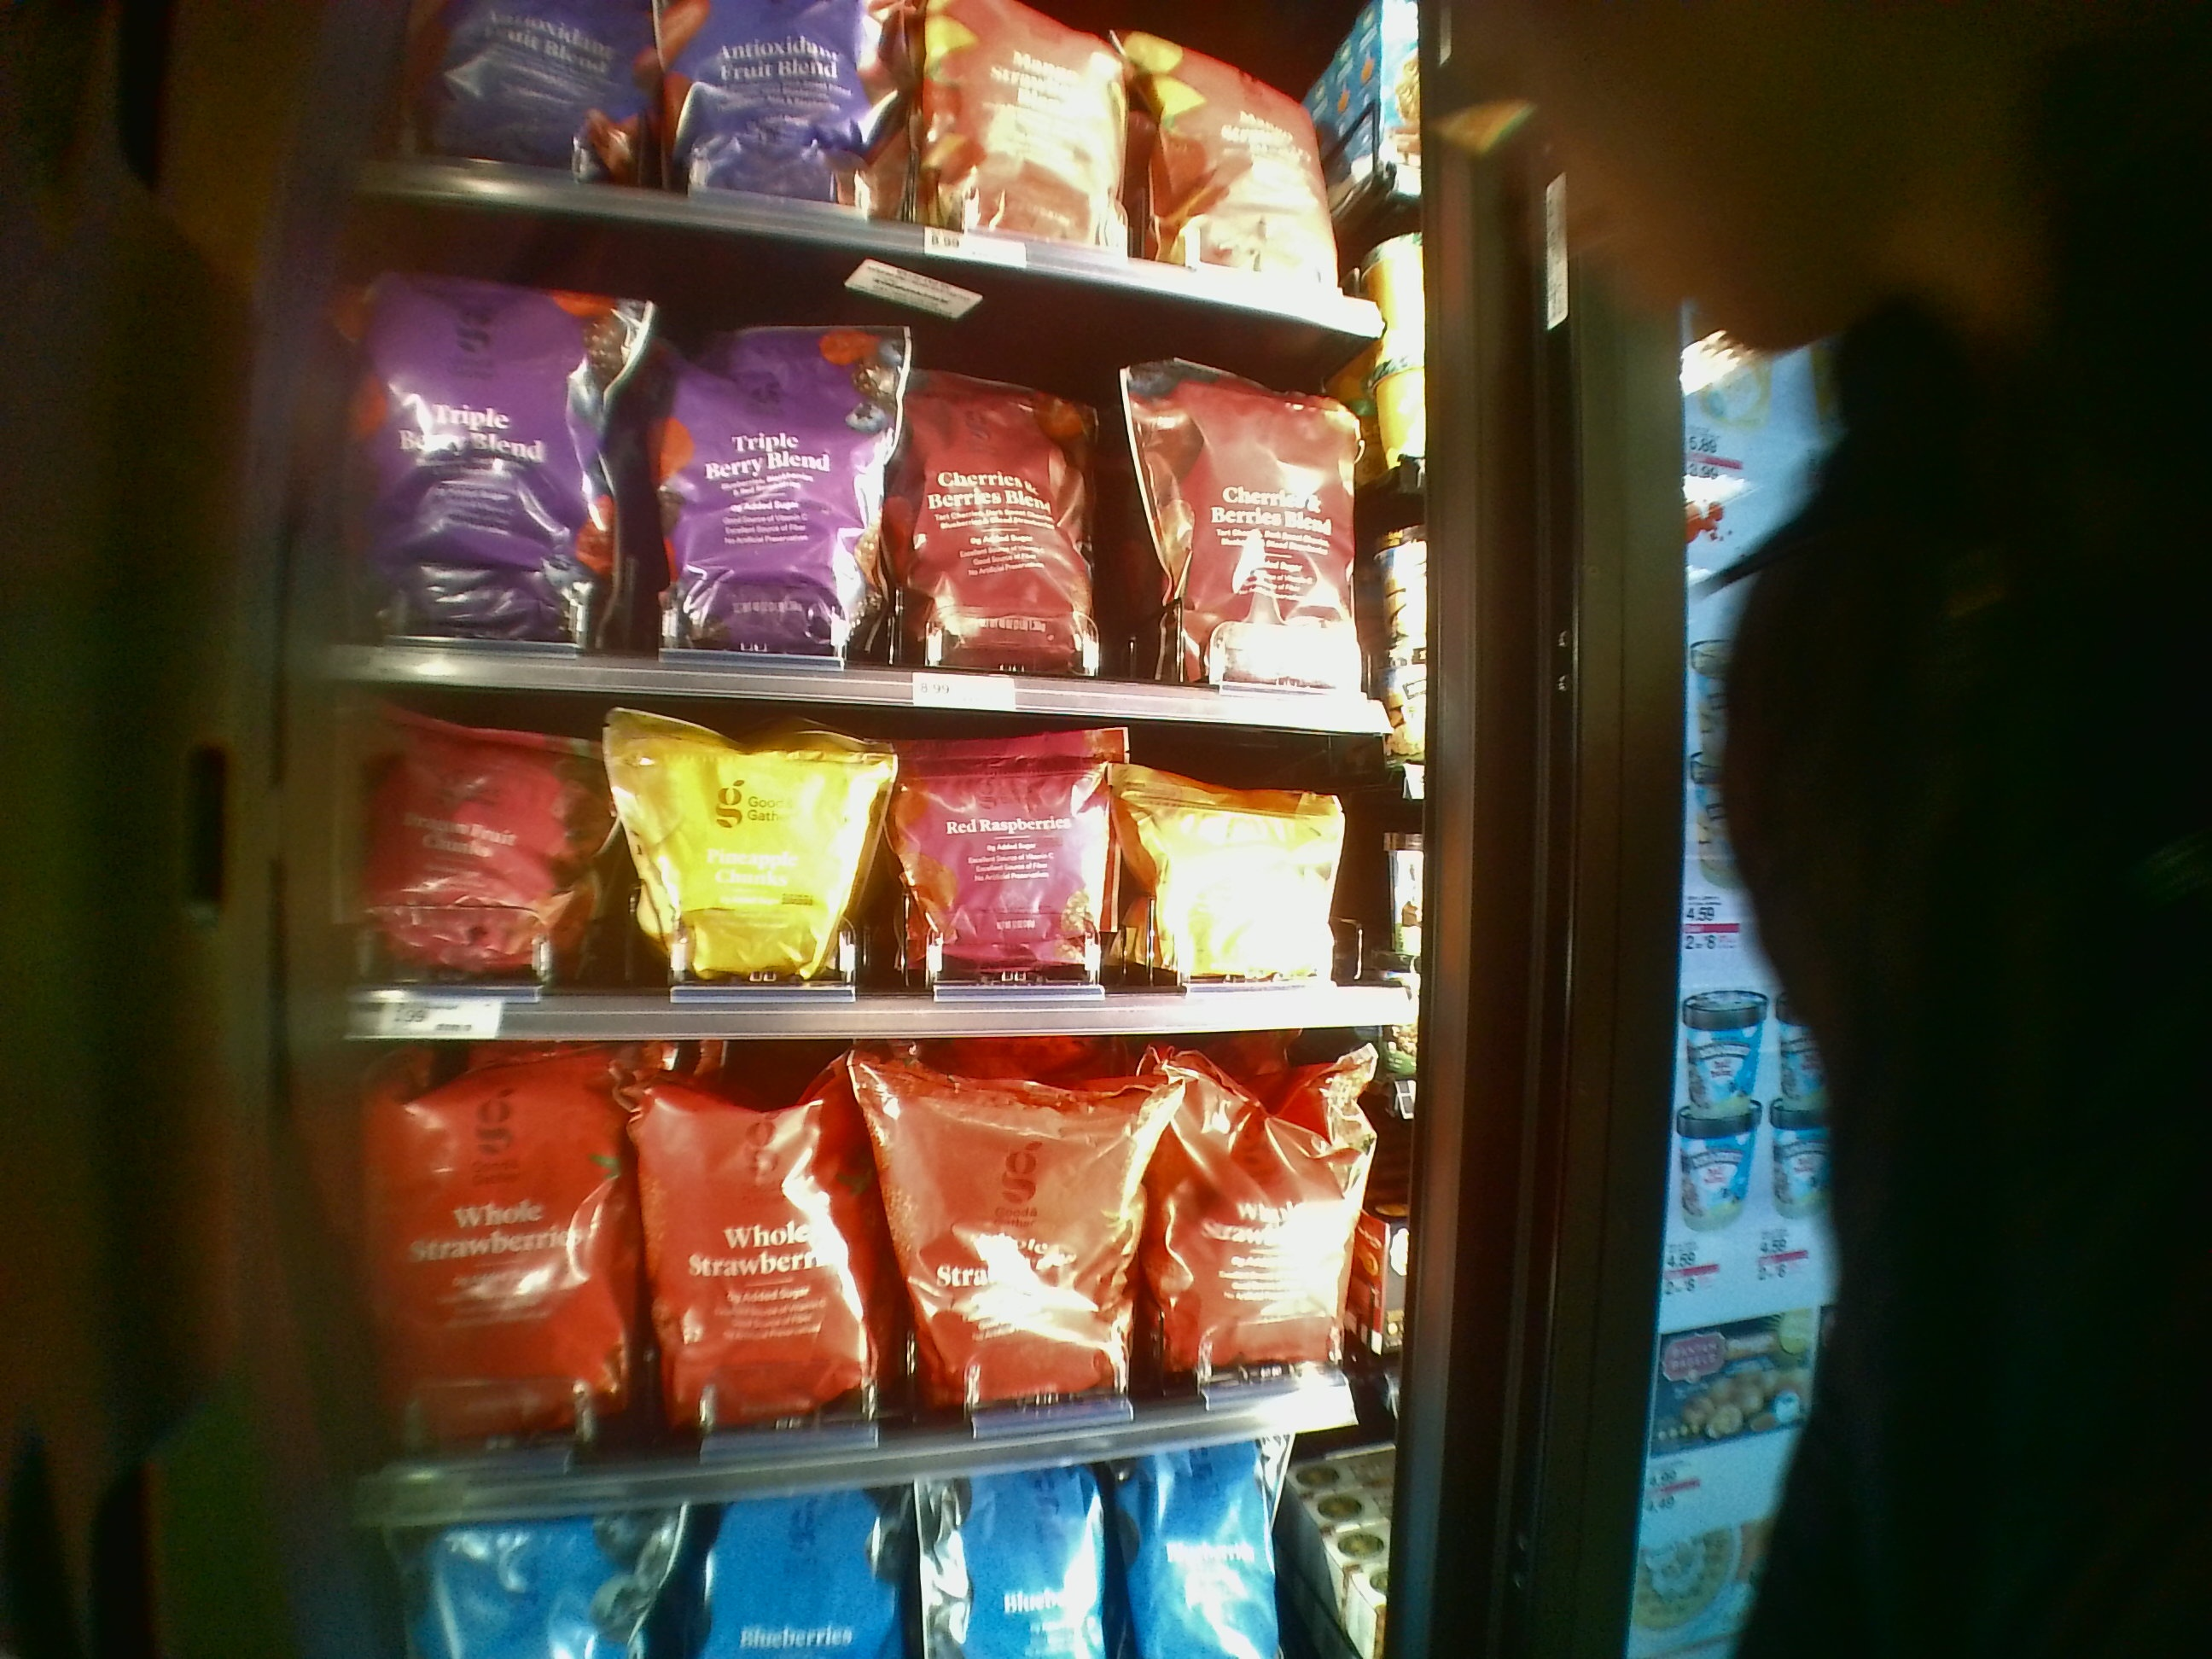shelf: (338, 274, 1393, 734), (364, 1047, 1407, 1481), (334, 685, 1416, 1044)
